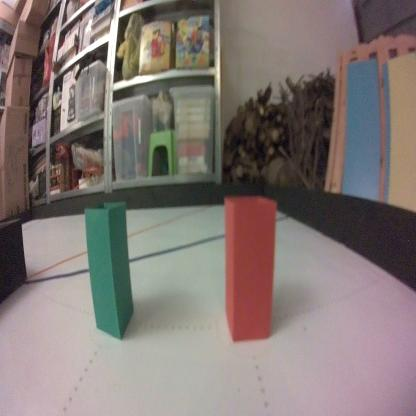green: (82, 197, 137, 345)
red: (221, 190, 278, 345)
